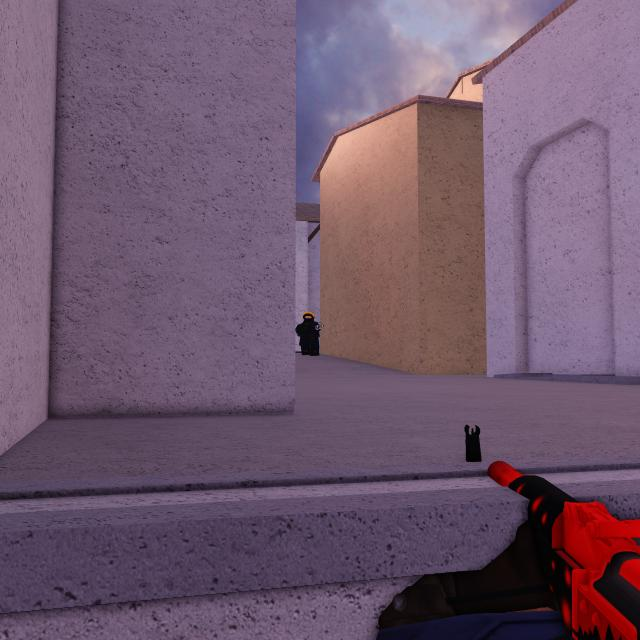Head: (303, 312, 316, 324)
Player: (296, 312, 324, 354)
